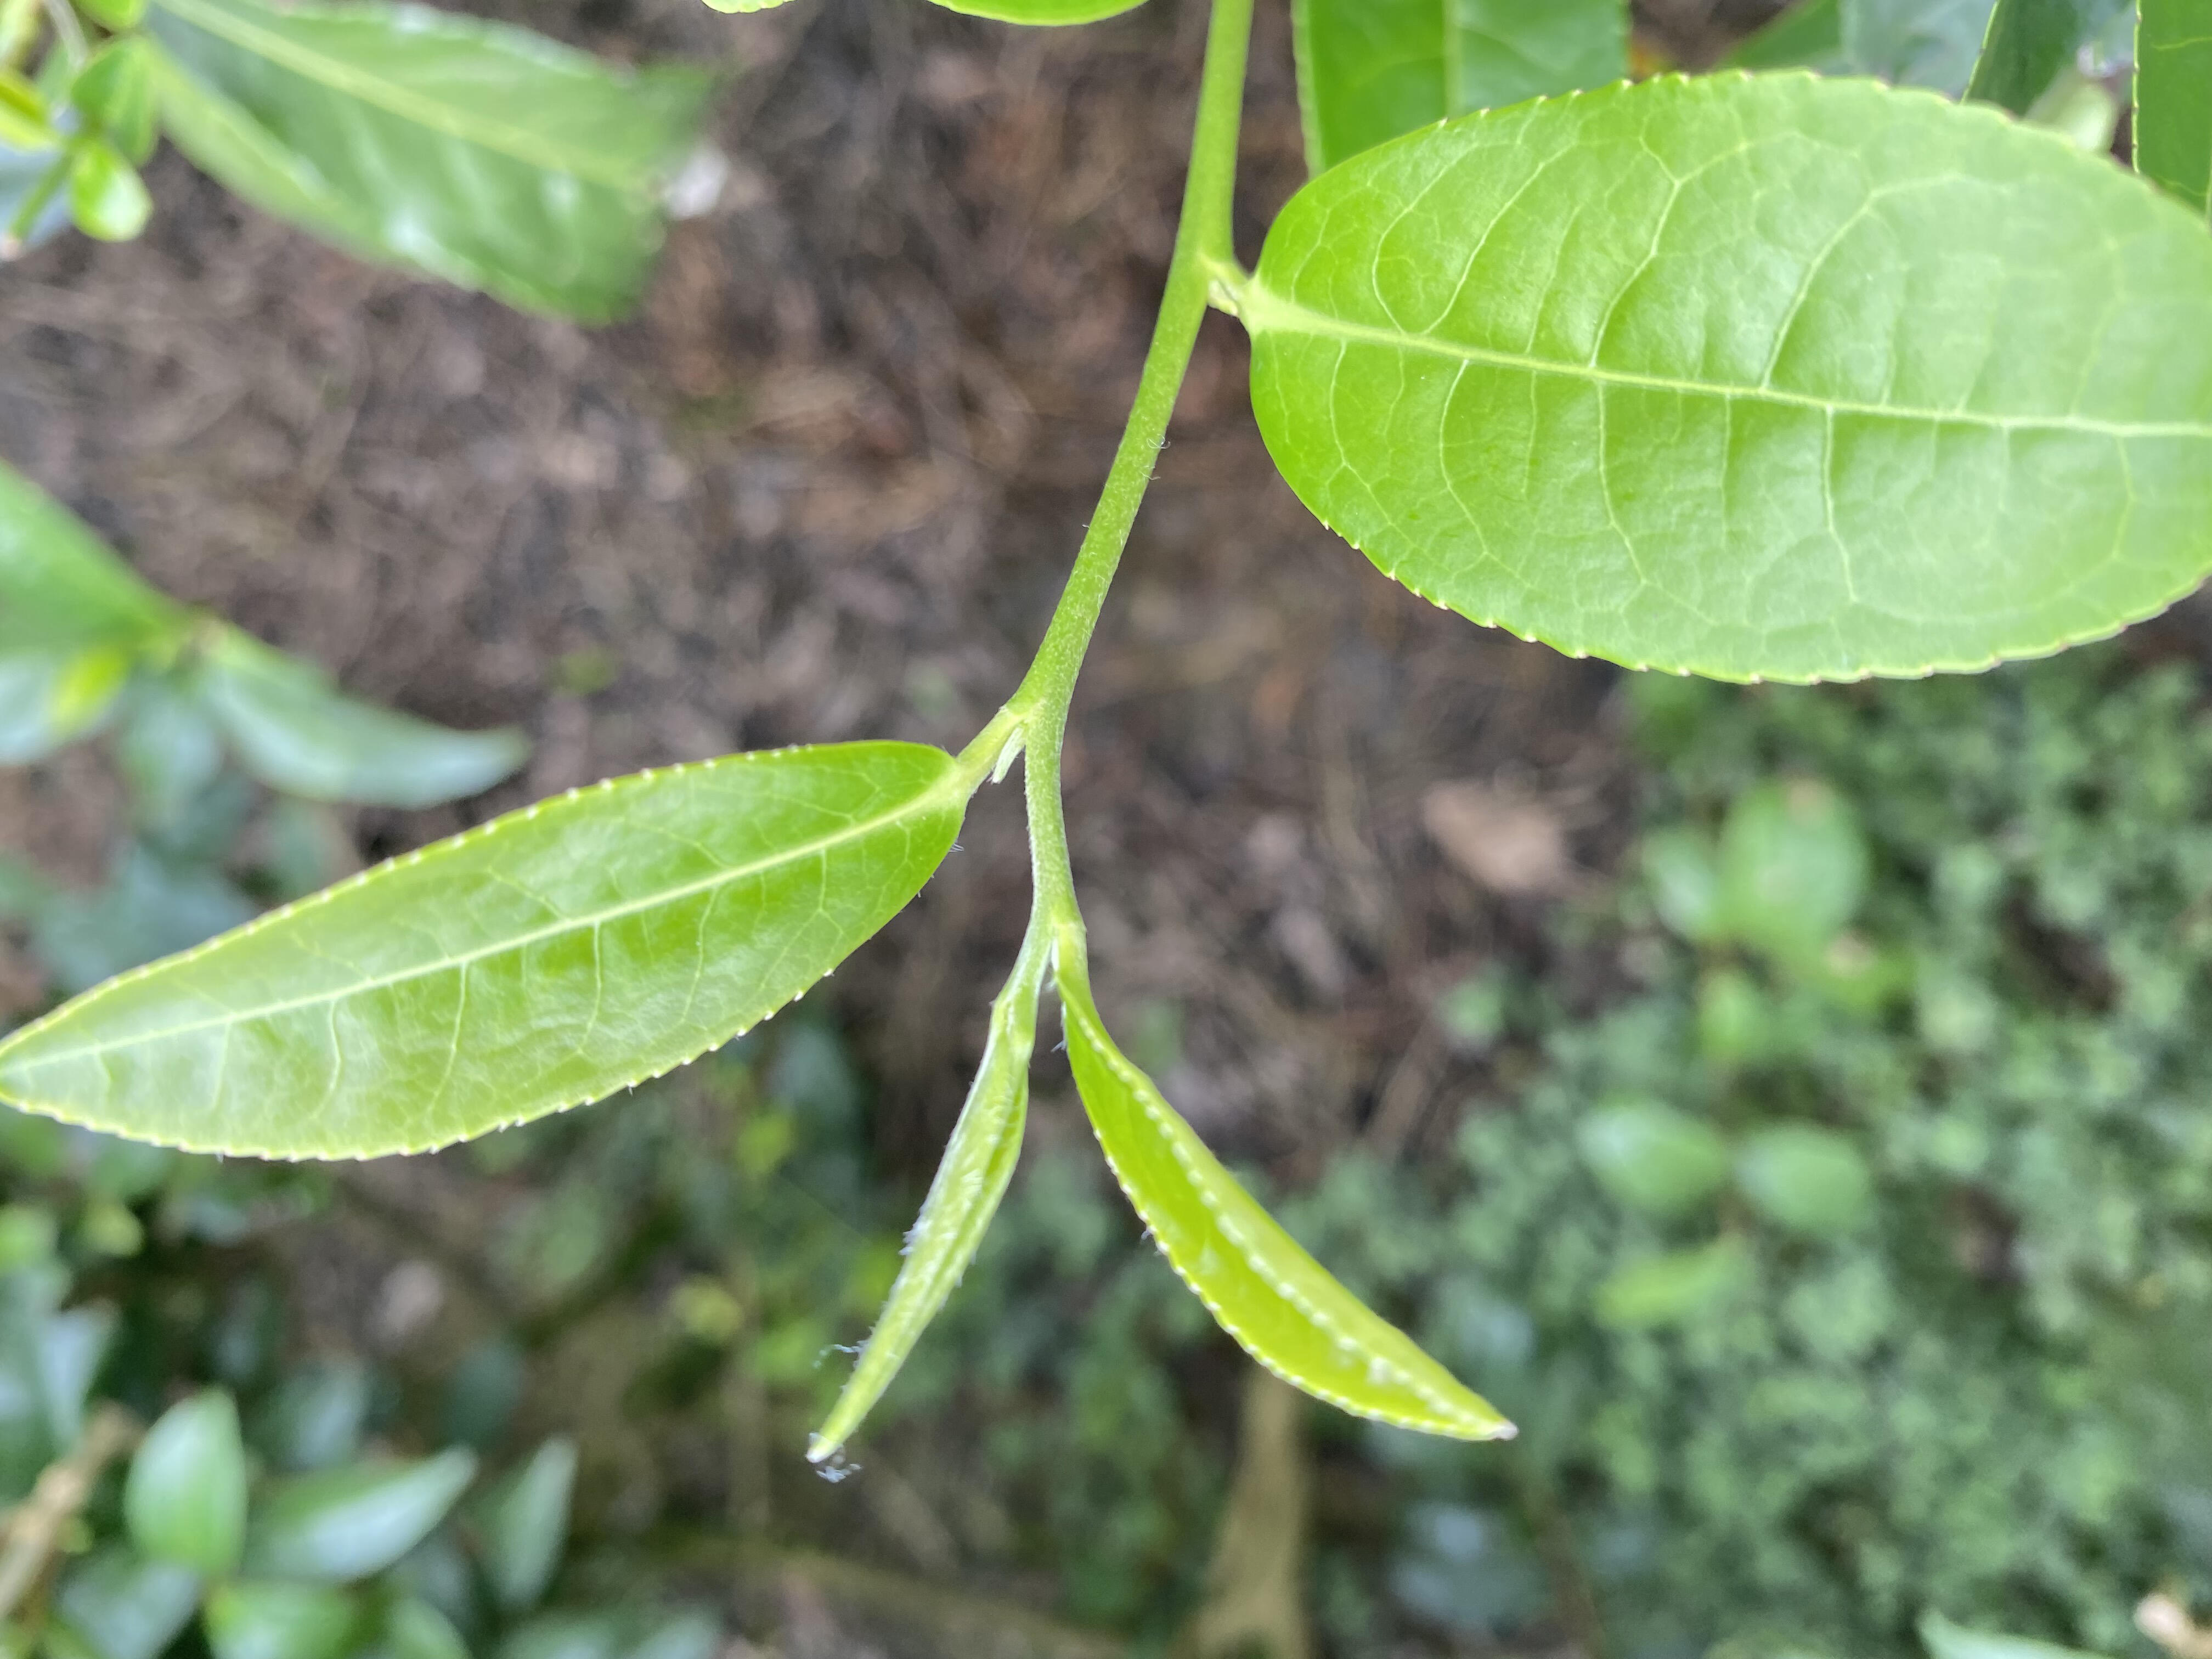healthy: (1247, 64, 2212, 690), (2, 739, 974, 1168)
